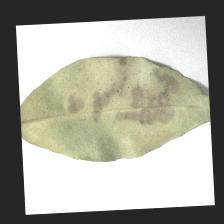black spot: (49, 76, 173, 137)
